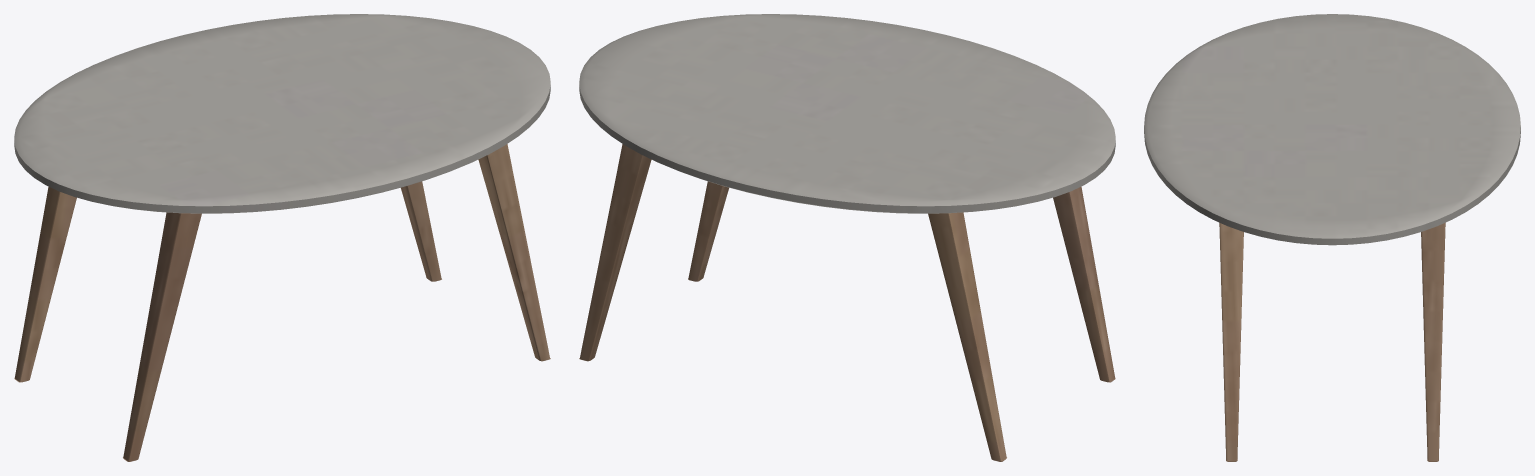
File: cargo_workbench.glb
The picture shows the model from 3 angles, left to right: view 1: azimuth 30°, elevation 25°; view 2: azimuth 150°, elevation 25°; view 3: azimuth 270°, elevation 25°; orthographic projection. The views are drawn at different scales.
Visible parts, largest first — view 1: KB3D_ATP_PropTable_H_Main; view 2: KB3D_ATP_PropTable_H_Main; view 3: KB3D_ATP_PropTable_H_Main.
Part boxes in pixels (bbox=[...]): KB3D_ATP_PropTable_H_Main: bbox=[14, 14, 550, 461]; KB3D_ATP_PropTable_H_Main: bbox=[579, 14, 1115, 461]; KB3D_ATP_PropTable_H_Main: bbox=[1144, 14, 1520, 461].
Bounding box in the file's own units: 2 × 1 × 1.42.
2 materials, 2 textured.
